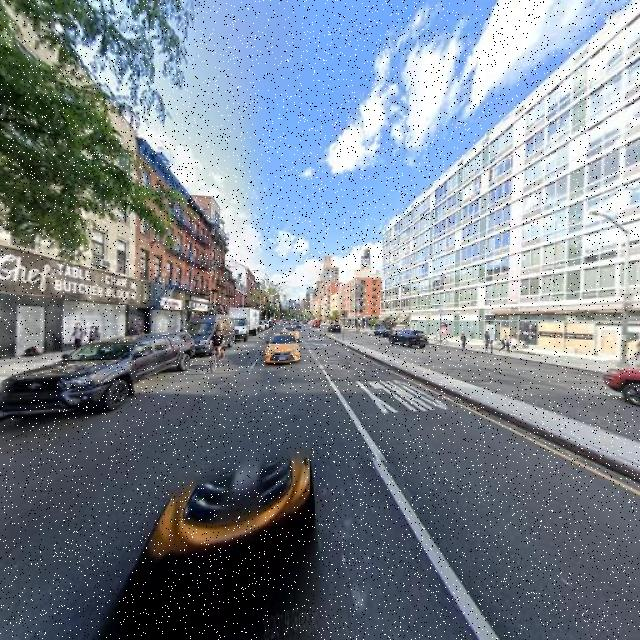Building: (384, 1, 640, 364), (1, 1, 134, 355), (138, 134, 185, 337), (189, 199, 208, 330)
